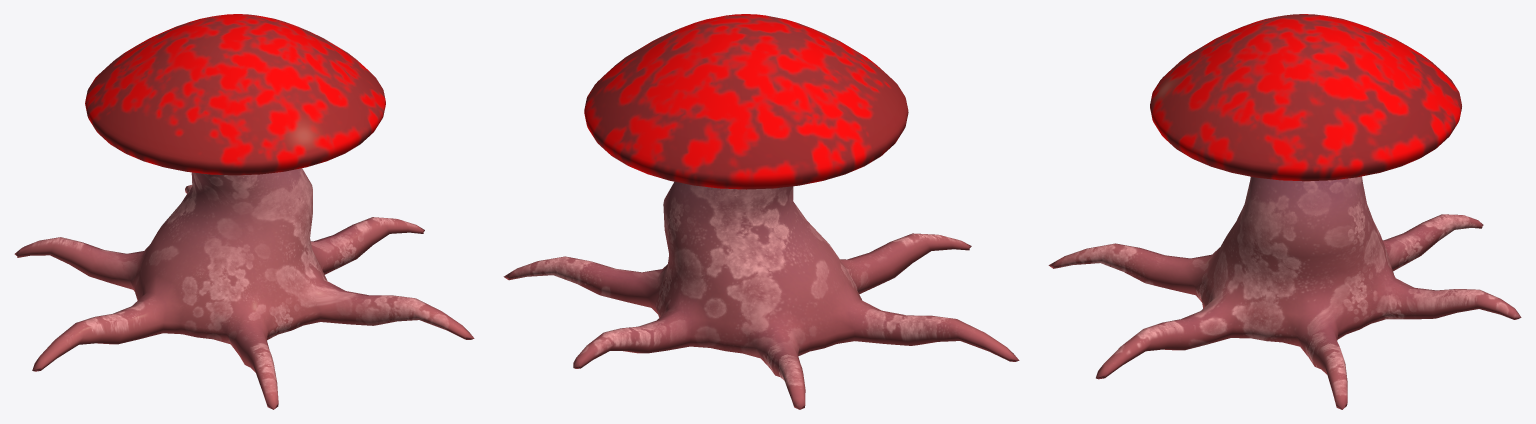
The model's file is mushroom.fbx.
3 renders of one model, left to right at view 1: azimuth 30°, elevation 25°; view 2: azimuth 150°, elevation 25°; view 3: azimuth 270°, elevation 25°, orthographic. The views are drawn at different scales.
Visible parts, largest first — view 1: foliage 2; view 2: foliage 2; view 3: foliage 2.
Boxes of the visible parts, x1,y1,x2,y2 form: foliage 2: (14,14,474,409); foliage 2: (503,14,1019,409); foliage 2: (1048,14,1521,409).
Size of the model in its own units: 6293 by 3783 by 5696.
1 material, 1 textured.
